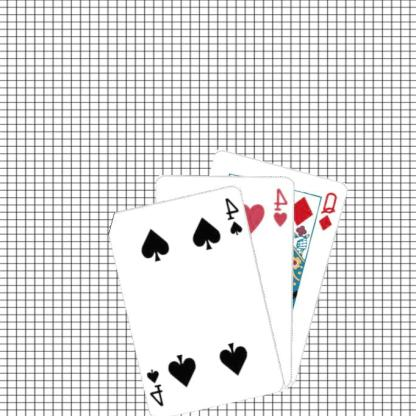4H: (273, 186, 291, 228)
4S: (224, 195, 246, 236), (145, 366, 167, 407)
QD: (318, 189, 341, 232)
